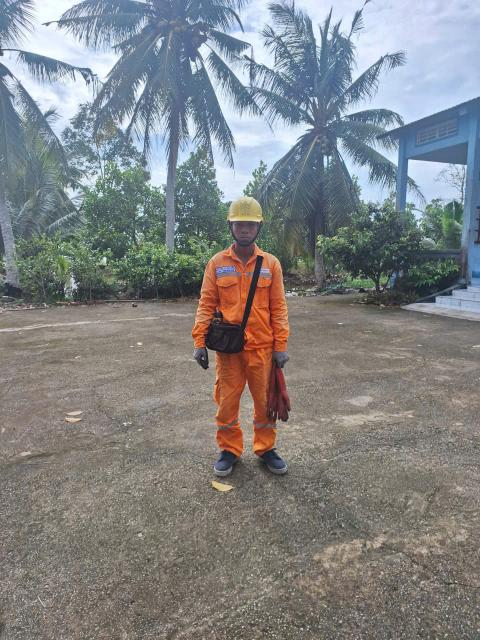gloves: (181, 346, 222, 369), (271, 348, 294, 367)
helmet: (218, 186, 273, 235)
shoes: (249, 435, 297, 478), (205, 441, 245, 475)
